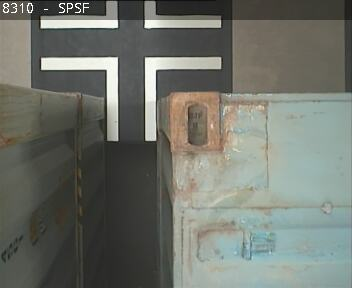groundmarker_1: (39, 55, 221, 142), (42, 1, 220, 29)
